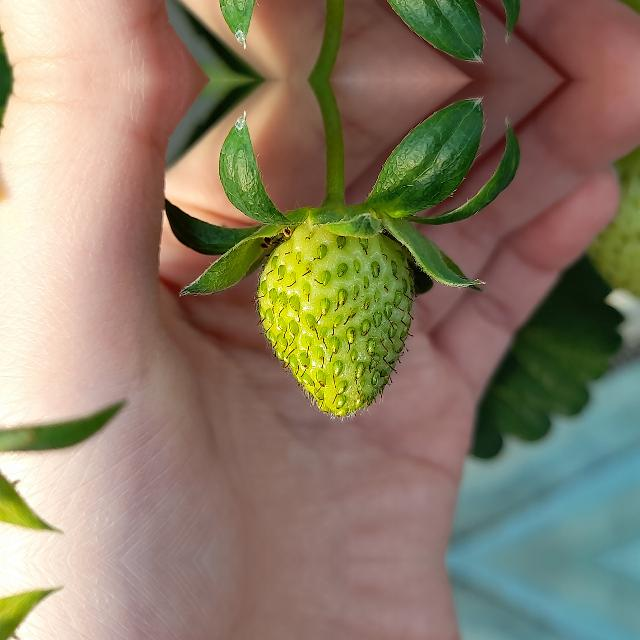Health_25: (252, 223, 418, 422)
